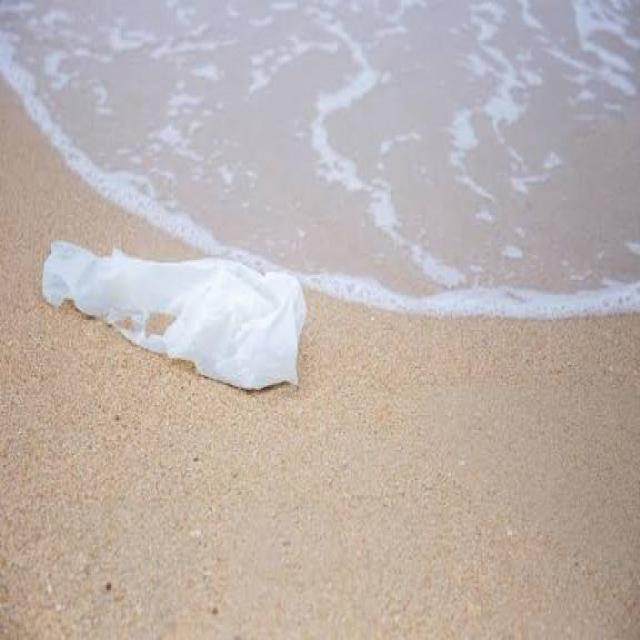bag: (39, 201, 340, 433)
